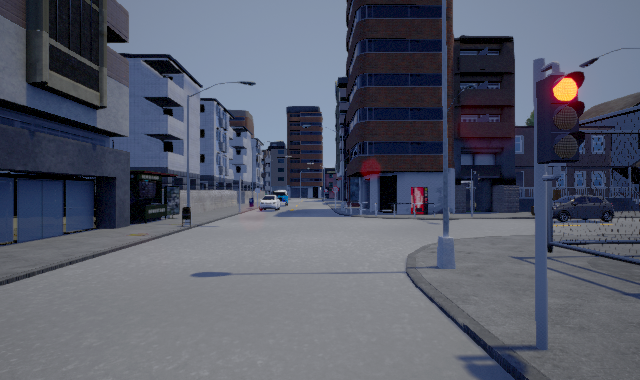traffic_light: (536, 61, 585, 181)
traffic_sign: (332, 186, 339, 193)
vehicle: (553, 195, 614, 222), (259, 190, 281, 212), (275, 188, 287, 207)
